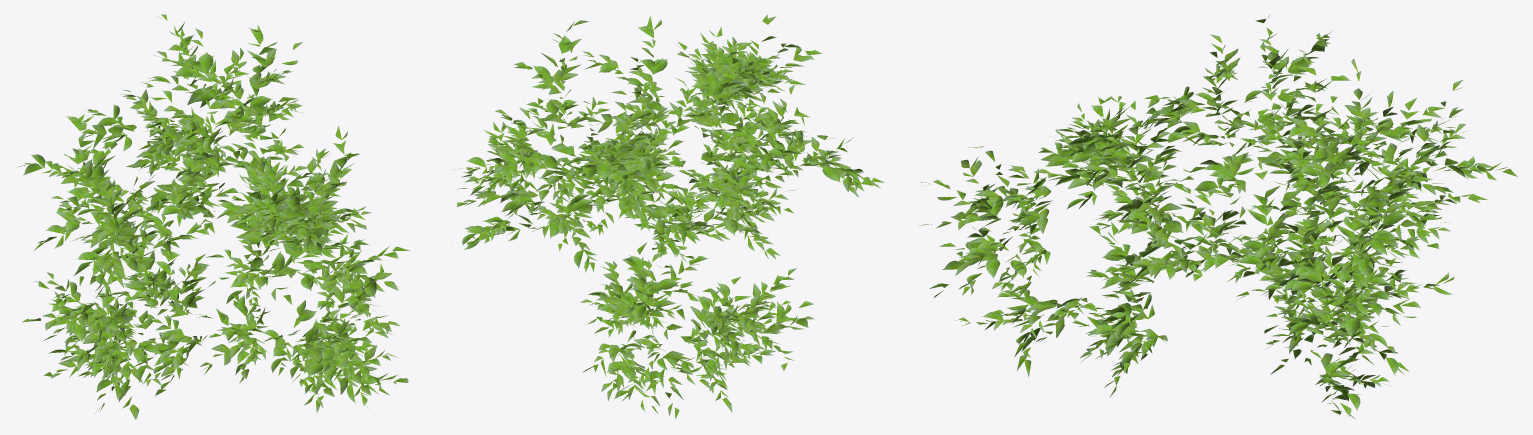
The model's file is tree_a.glb.
The picture shows the model from 3 angles, left to right: view 1: azimuth 30°, elevation 25°; view 2: azimuth 150°, elevation 25°; view 3: azimuth 270°, elevation 25°; orthographic projection. The views are drawn at different scales.
Parts seen in each view (by area): view 1: Object_17; view 2: Object_17; view 3: Object_17.
Boxes of the visible parts, <box> form: Object_17: <box>19,14,410,419</box>; Object_17: <box>450,14,884,419</box>; Object_17: <box>919,15,1517,419</box>.
Size of the model in its own units: 2.17 by 2.09 by 2.85.
1 material, 1 textured.
